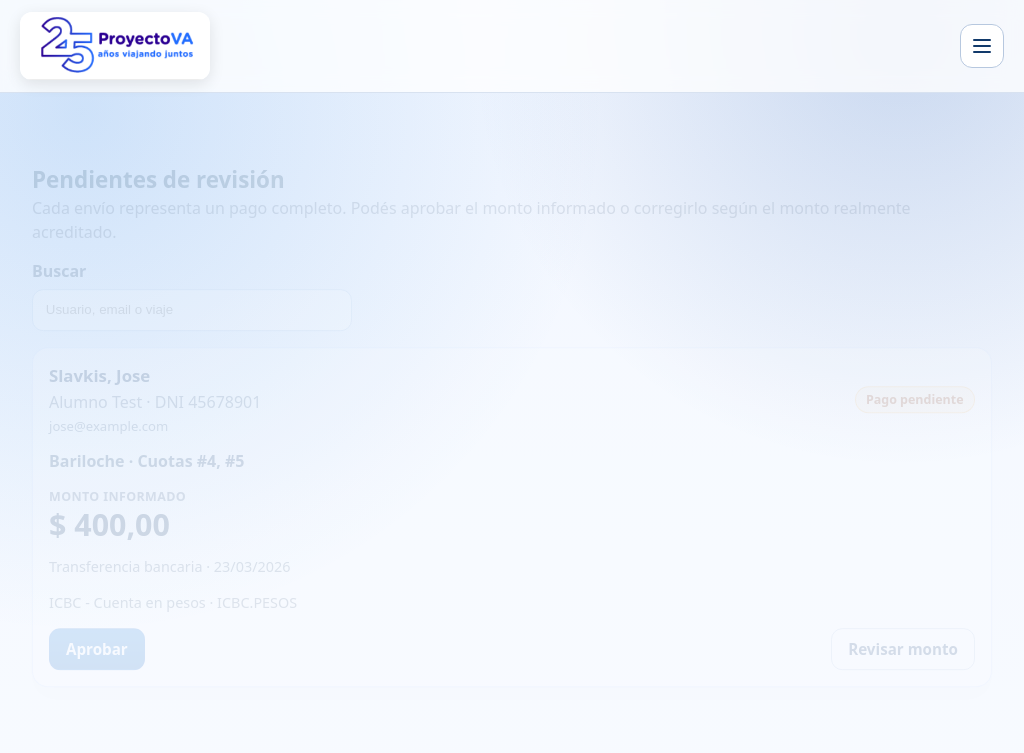
Test case: PendingReviewPage › lista pagos pendientes y permite aprobarlos parcialmente
Expected: the heading "Slavkis, Jose" is shown, [49,364,150,387]
Expected: the text "ICBC - Cuenta en pesos · ICBC.PESOS" is shown, [49,593,297,612]
Click the button "Revisar monto" at (903, 649), box [831,628,975,670]
(page scrolled)
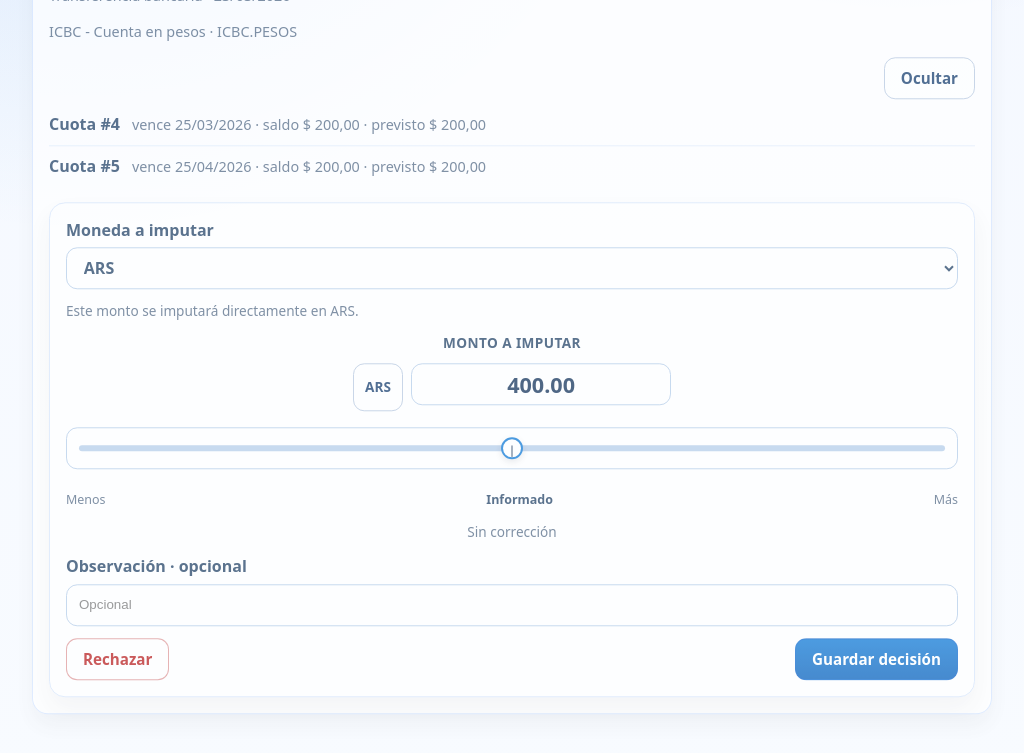
Expected: the text "Cuota #4" is shown, [49,114,120,137]
Expected: the text "Cuota #5" is shown, [49,156,120,179]
Replace the text in the field named "Monto a imputar" with "250" at (541, 384), box [411,363,671,405]
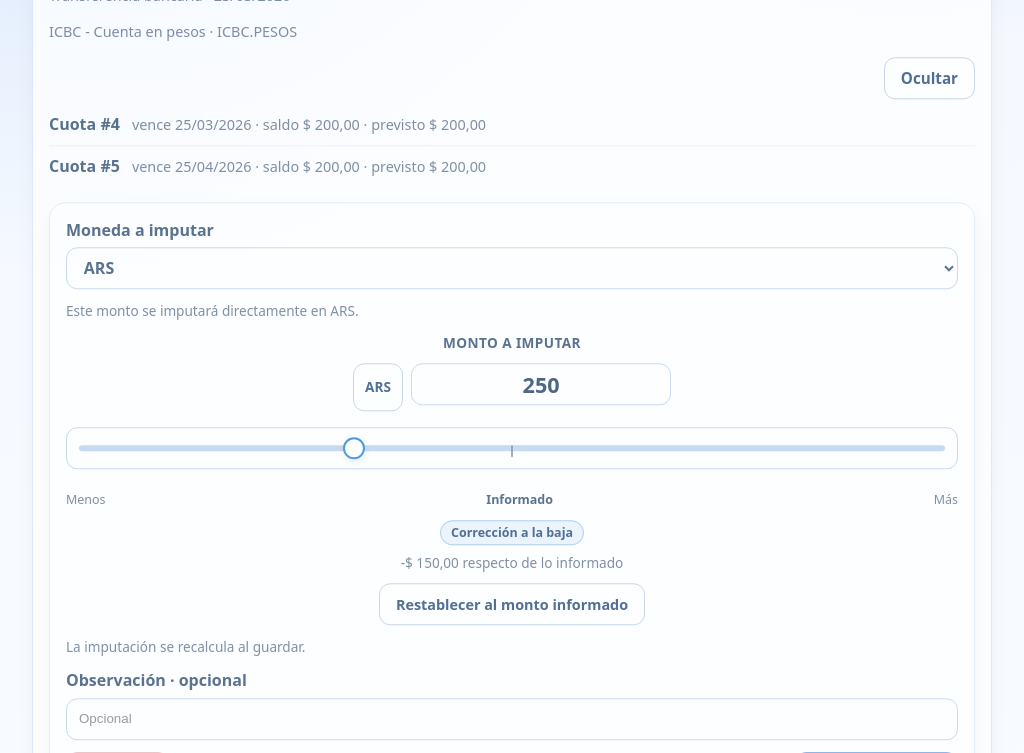
Type "Se aprobó el monto verificado." into the field labelled "Observación · opcional" at (512, 719), box [66,698,958,740]
(page scrolled)
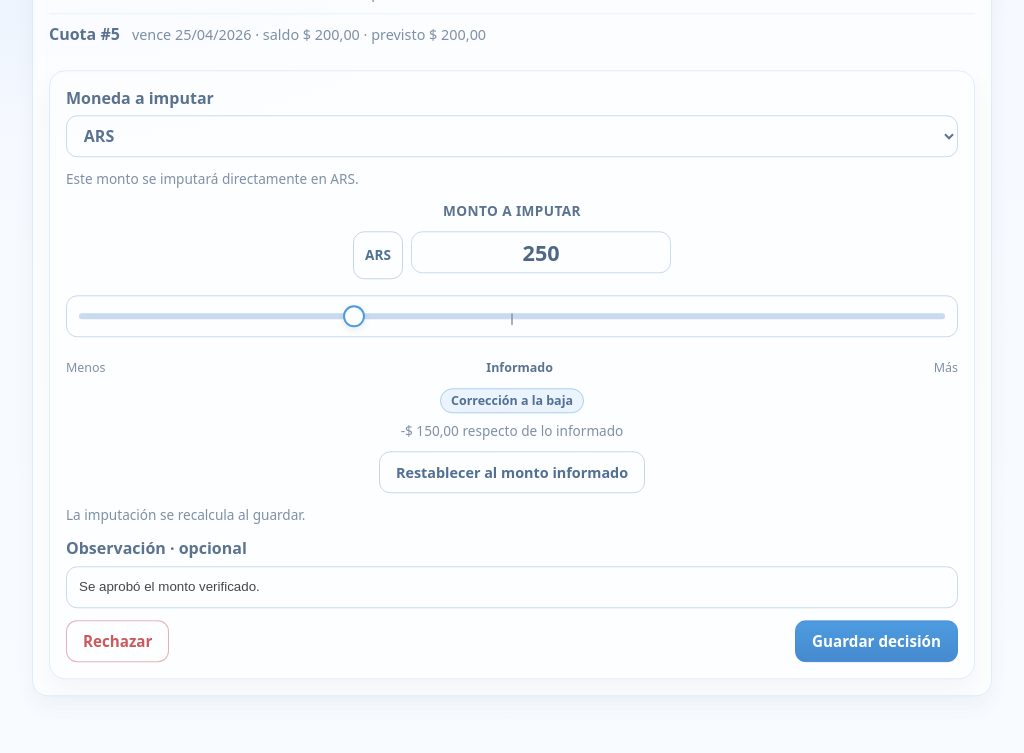
Click the button "Guardar decisión" at (876, 641), box [795,620,958,662]
(page scrolled)
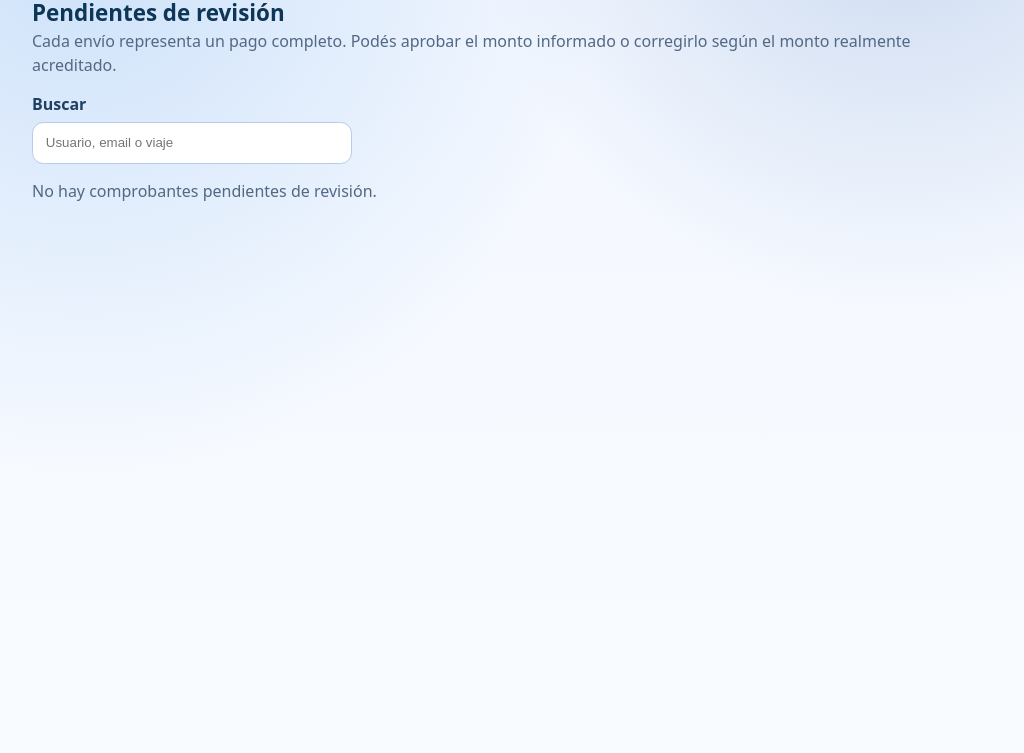
Expected: the text "No hay comprobantes pendientes de revisión." is shown, [32,180,377,202]
